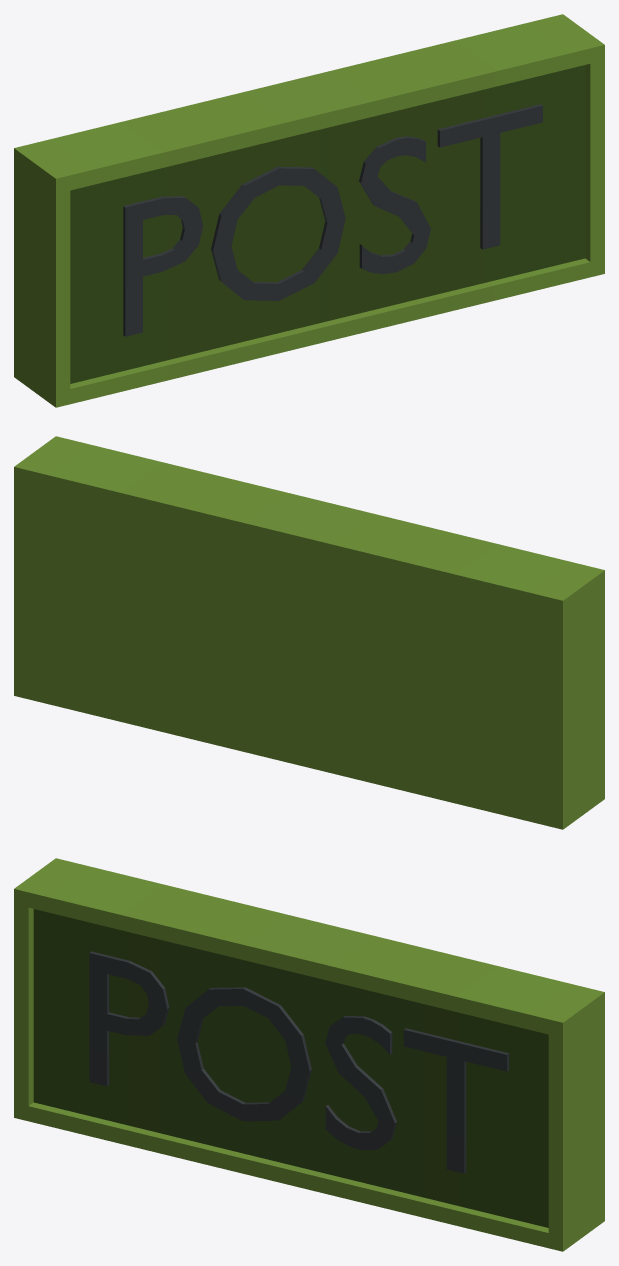
Rendered from Banner_15.fbx.
3 renders of one model, top to bottom at view 1: azimuth 30°, elevation 25°; view 2: azimuth 150°, elevation 25°; view 3: azimuth 330°, elevation 25°, orthographic.
Parts seen in each view (by area): view 1: Banner_15; view 2: Banner_15; view 3: Banner_15.
Part boxes in pixels (box(x1,y1,x2,y2)): Banner_15: box(14, 14, 604, 407); Banner_15: box(14, 436, 604, 829); Banner_15: box(14, 858, 604, 1251).
Size of the model in its own units: 2.12 by 0.8434 by 0.2801.
